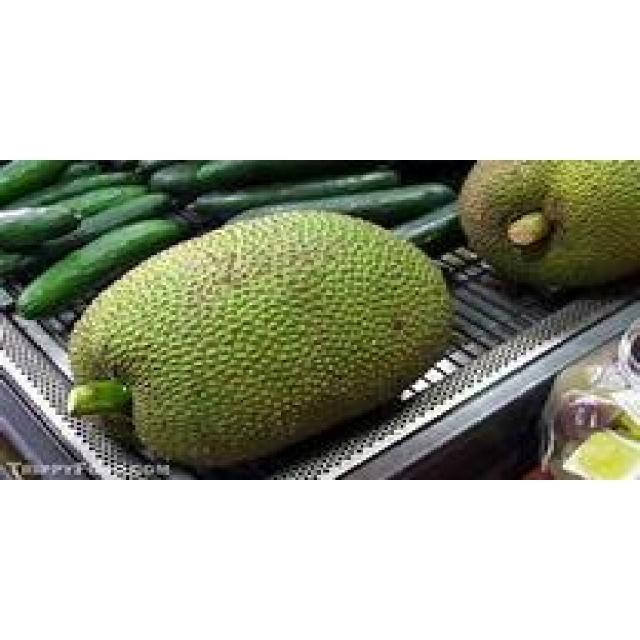Fruit: (40, 192, 452, 480)
